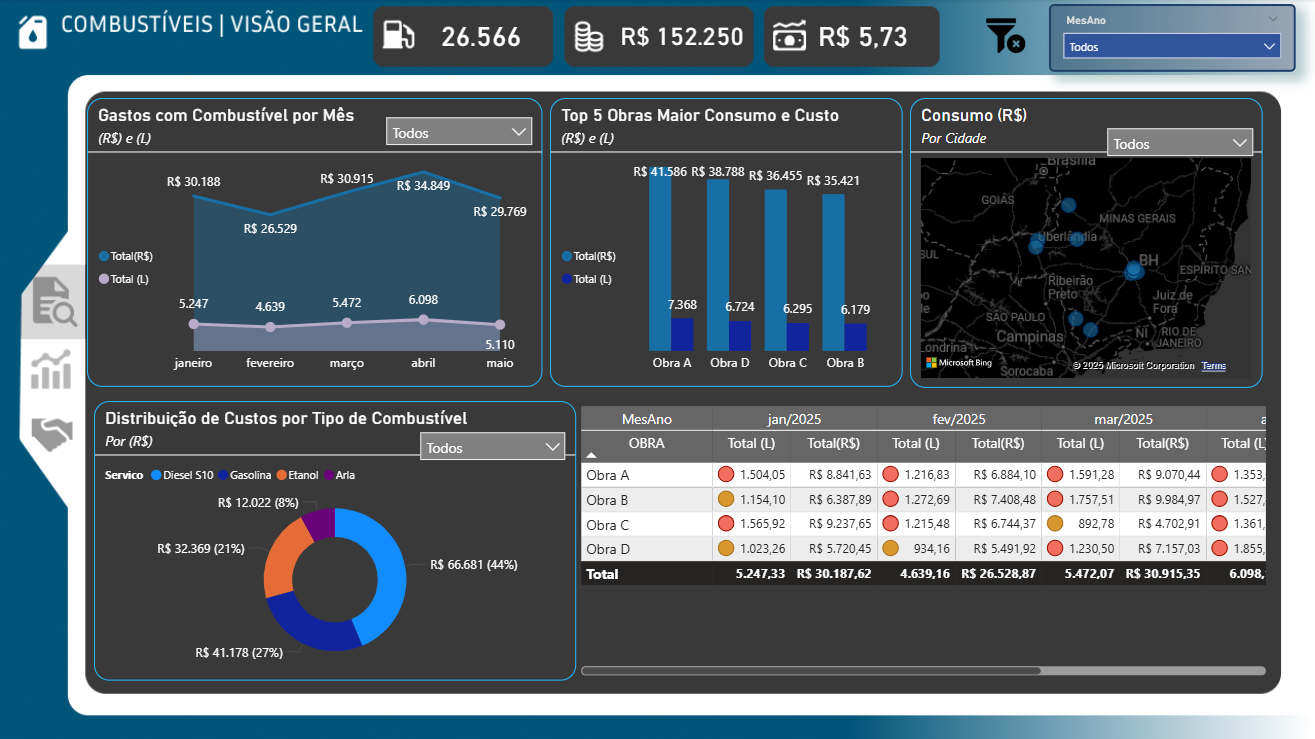

What the dashboard file says about the page in this screenshot:
{"tool":"powerbi","page":{"name":"Visao_Geral","canvas":[1280,720],"ordinal":0},"visuals":[{"type":"card","fields":{"Values":["MEDIDAS.Total(R$)"]},"box":[583.9,6.1,159.8,58.8],"z":0},{"type":"card","fields":{"Values":["MEDIDAS.Total (L)"]},"box":[388.1,5.8,159.5,59.3],"z":1000},{"type":"card","fields":{"Values":["MEDIDAS.TickeMédio"]},"box":[759.5,6.1,159.8,58.8],"z":2000},{"type":"map","title":"Consumo (R$)","fields":{"Category":["T_Log_2025.Cidade"]},"box":[885.1,96.6,343.3,281.9],"z":3000},{"type":"pivotTable","title":"Resumo","fields":{"Values":["MEDIDAS.Total (L)","MEDIDAS.Total(R$)"],"Columns":["CALENDARIO.MesAno"],"Rows":["T_Log_2025.OBRA"]},"box":[560.2,391,676,272.3],"z":4000},{"type":"donutChart","title":"Distribuição de Custos por Tipo de Combustível","fields":{"Category":["T_Log_2025.Servico"],"Y":["MEDIDAS.Total(R$)"]},"box":[91.4,391,468.8,272.3],"z":5000},{"type":"slicer","fields":{"Values":["T_Log_2025.Servico"]},"box":[398.8,411.4,161.5,51.6],"z":6000},{"type":"slicer","title":"MÉDIA PESSOAS ALOJADAS/DIA","fields":{"Values":["CALENDARIO.MesAno"]},"box":[1020.3,4.4,239.7,65.9],"z":7000},{"type":"clusteredColumnChart","title":"Top 5 Obras Maior Consumo e Custo","fields":{"Category":["T_Log_2025.OBRA"],"Y":["MEDIDAS.Total(R$)","MEDIDAS.Total (L)"]},"box":[534.7,96.6,343.3,281],"z":8000},{"type":"areaChart","title":"Gastos com Combustível por Mês","fields":{"Category":["CALENDARIO.DATA.Variation.Hierarquia de datas.Ano","CALENDARIO.DATA.Variation.Hierarquia de datas.Trimestre","CALENDARIO.DATA.Variation.Hierarquia de datas.Mês","CALENDARIO.DATA.Variation.Hierarquia de datas.Dia","T_Log_2025.OBRA"],"Y":["MEDIDAS.Total(R$)","MEDIDAS.Total (L)"]},"box":[84.3,96.6,442.5,281],"z":9000},{"type":"slicer","fields":{"Values":["T_Log_2025.OBRA"]},"box":[365.3,105.4,161.6,51.8],"z":10000},{"type":"slicer","fields":{"Values":["T_Log_2025.Cidade"]},"box":[1066.8,115.9,161.6,50.9],"z":11000},{"type":"image","box":[954.2,11.7,47.7,47.7],"z":12000},{"type":"actionButton","box":[25.3,339.5,52.5,38.9],"z":13000},{"type":"actionButton","box":[25.3,275.3,52.5,38.9],"z":14000},{"type":"actionButton","box":[25.5,403.9,52.7,38.6],"z":15000},{"type":"card","title":"Última Atualização","fields":{"Values":["MEDIDAS.UltimaAtualizacao"]},"box":[142,38.9,221.8,40.9],"z":15001}]}

Visuals, with their boxes in screenshot pixels (x1, y1, x2, y2), scaled from the page's 1280x720 canvas onto the 1315x739 screenshot:
card - MEDIDAS.Total(R$): x1=600, y1=6, x2=764, y2=67
card - MEDIDAS.Total (L): x1=399, y1=6, x2=563, y2=67
card - MEDIDAS.TickeMédio: x1=780, y1=6, x2=944, y2=67
"Consumo (R$)" map: x1=909, y1=99, x2=1262, y2=388
"Resumo" pivotTable: x1=576, y1=401, x2=1270, y2=681
"Distribuição de Custos por Tipo de Combustível" donutChart: x1=94, y1=401, x2=576, y2=681
slicer - T_Log_2025.Servico: x1=410, y1=422, x2=576, y2=475
"MÉDIA PESSOAS ALOJADAS/DIA" slicer: x1=1048, y1=5, x2=1294, y2=72
"Top 5 Obras Maior Consumo e Custo" clusteredColumnChart: x1=549, y1=99, x2=902, y2=388
"Gastos com Combustível por Mês" areaChart: x1=87, y1=99, x2=541, y2=388
slicer - T_Log_2025.OBRA: x1=375, y1=108, x2=541, y2=161
slicer - T_Log_2025.Cidade: x1=1096, y1=119, x2=1262, y2=171
image: x1=980, y1=12, x2=1029, y2=61
actionButton: x1=26, y1=348, x2=80, y2=388
actionButton: x1=26, y1=283, x2=80, y2=322
actionButton: x1=26, y1=415, x2=80, y2=454
"Última Atualização" card: x1=146, y1=40, x2=374, y2=82
